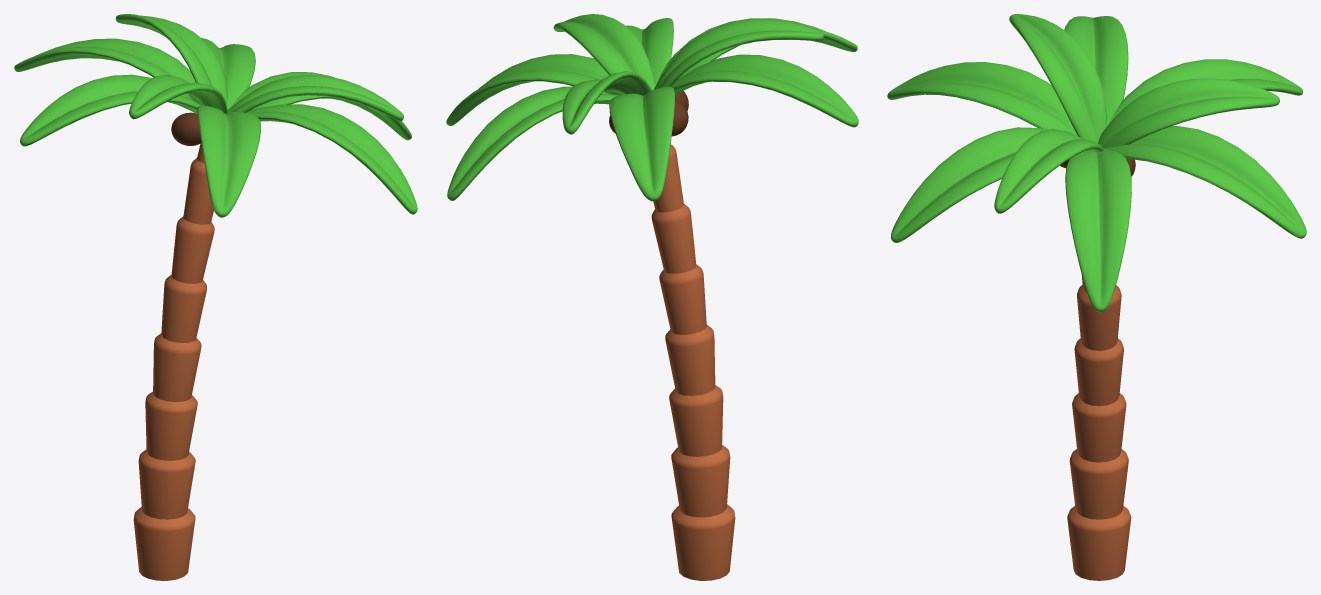
Rendered from palmier_B_MOD_v01.fbx.
3 views of the same model, side by side, from view 1: azimuth 30°, elevation 25°; view 2: azimuth 150°, elevation 25°; view 3: azimuth 270°, elevation 25° (orthographic). The views are drawn at different scales.
Visible parts, largest first — view 1: Plane.011, Cylinder.005, Sphere.007; view 2: Plane.011, Cylinder.005, Sphere.007; view 3: Plane.011, Cylinder.005.
Boxes of the visible parts, <box> form: Plane.011: <box>14,14,417,217</box>; Cylinder.005: <box>133,143,214,580</box>; Sphere.007: <box>171,112,201,145</box>; Plane.011: <box>446,14,858,201</box>; Cylinder.005: <box>651,144,735,580</box>; Sphere.007: <box>609,90,688,136</box>; Plane.011: <box>887,14,1306,312</box>; Cylinder.005: <box>1067,275,1131,580</box>.
Bounding box in the file's own units: 486 × 605 × 437.
